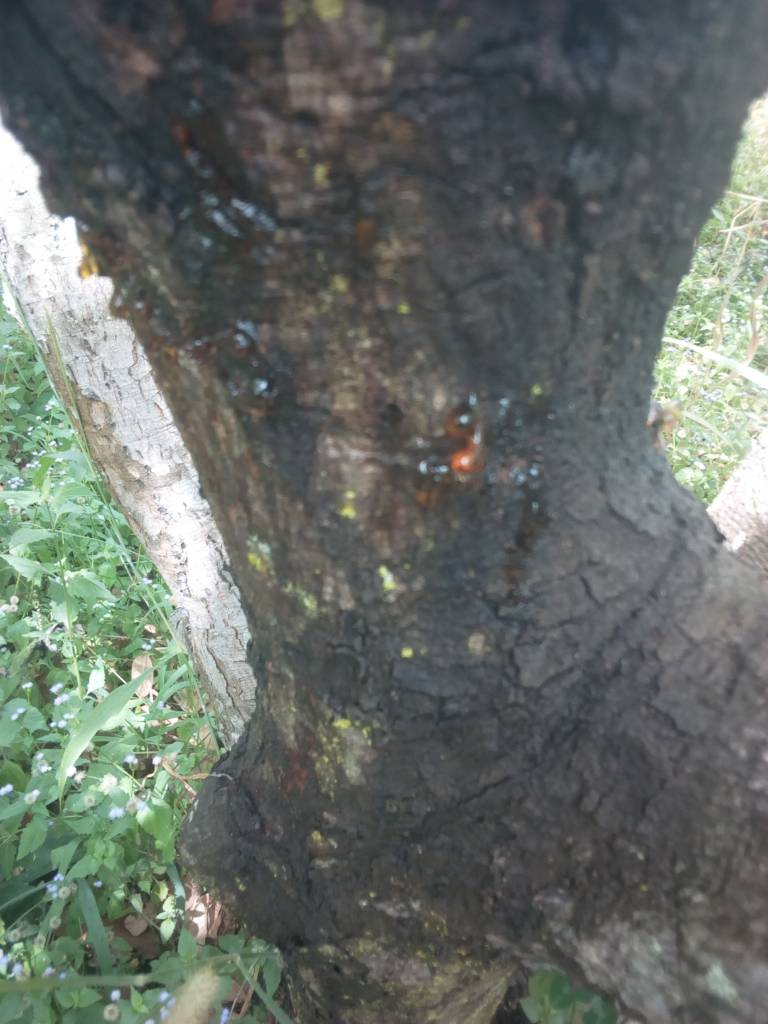Gommose: (71, 11, 646, 688)
